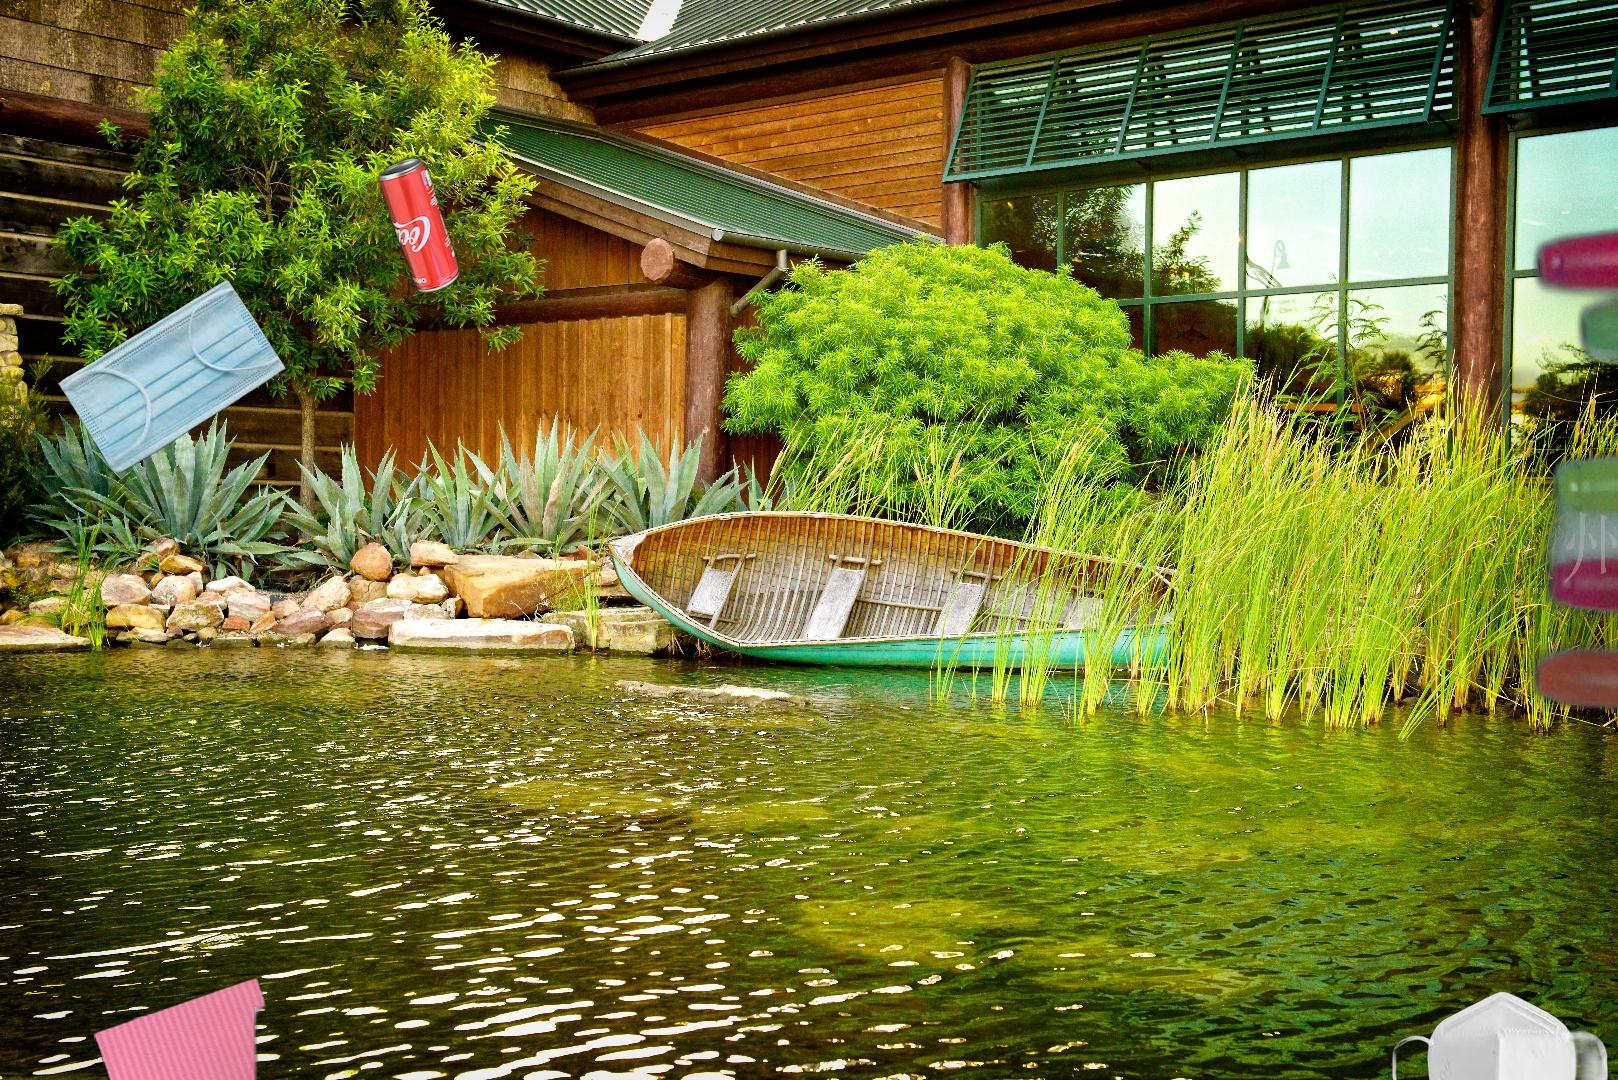metal-cans: (373, 151, 464, 299), (951, 1073, 1076, 1080)
penholder: (1407, 184, 1618, 1012)
trash: (54, 277, 287, 472), (1388, 990, 1611, 1080)
trashbox-cardboard: (818, 536, 1618, 1080), (86, 951, 610, 1080)
